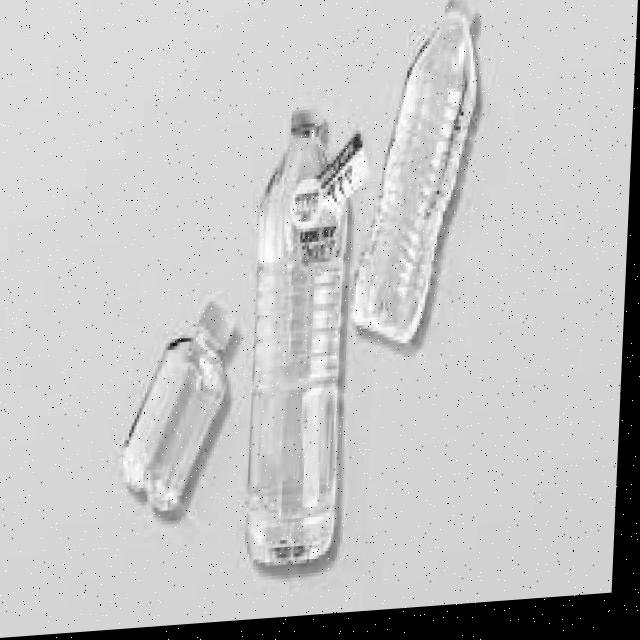bottle: (238, 92, 366, 602), (366, 0, 492, 379), (128, 271, 244, 527)
